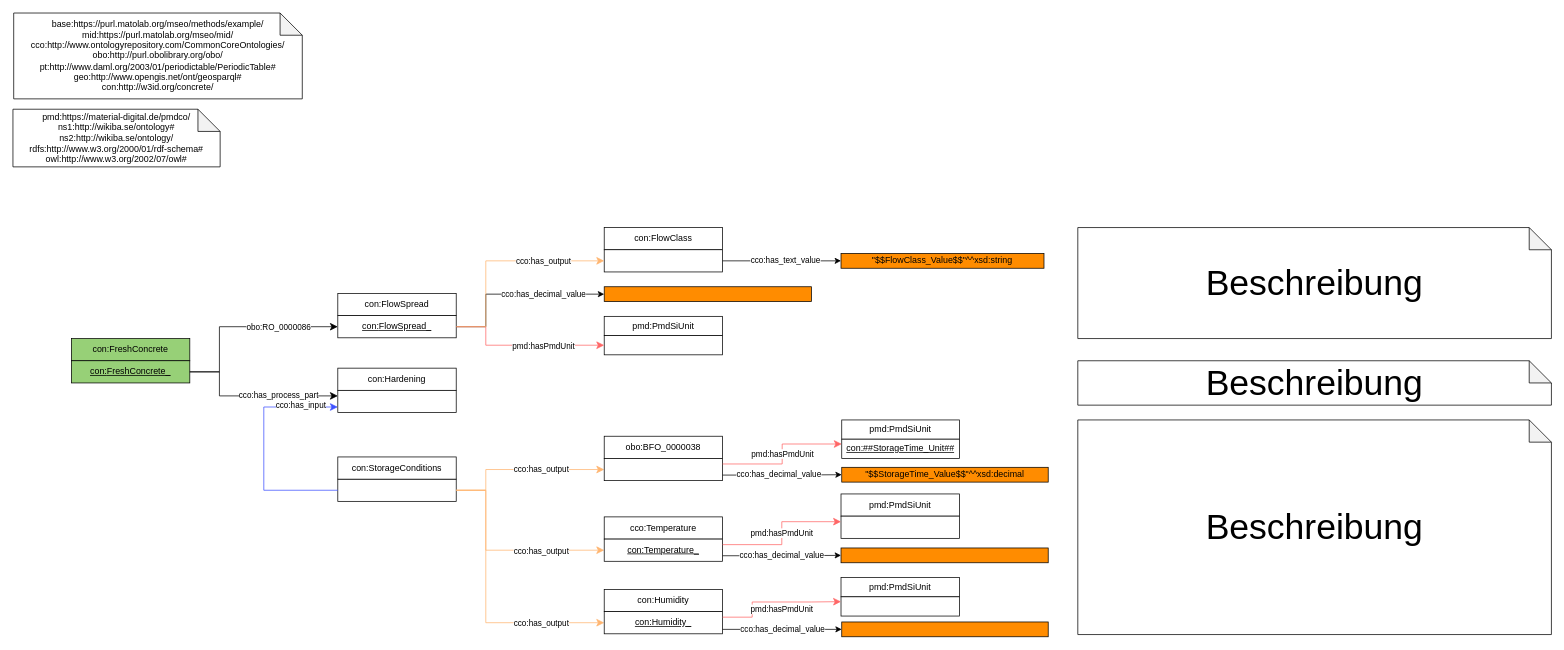
Some shapes in this 1564 by 650 pixel diagram are drawn without their labels. The shapes that lost their labels are listed below. From the top down, each one's centre as x and y in pixels, then its label:
(663,260): con: FlowClass_
(707,294): "$$FlowSpread_Value$$"^^xsd:decimal
(663,345): con:##FlowSpread_Unit##
(396,401): con:Hardening _
(396,489): con:StorageConditions _
(663,469): cco:StorageTime_
(899,526): con:##Temperature_Unit##
(944,555): "$$Temperature_Value$$"^^xsd:decimal
(899,606): con:##Humidity_Unit##
(944,629): "$$Humidity_Value$$"^^xsd:decimal
